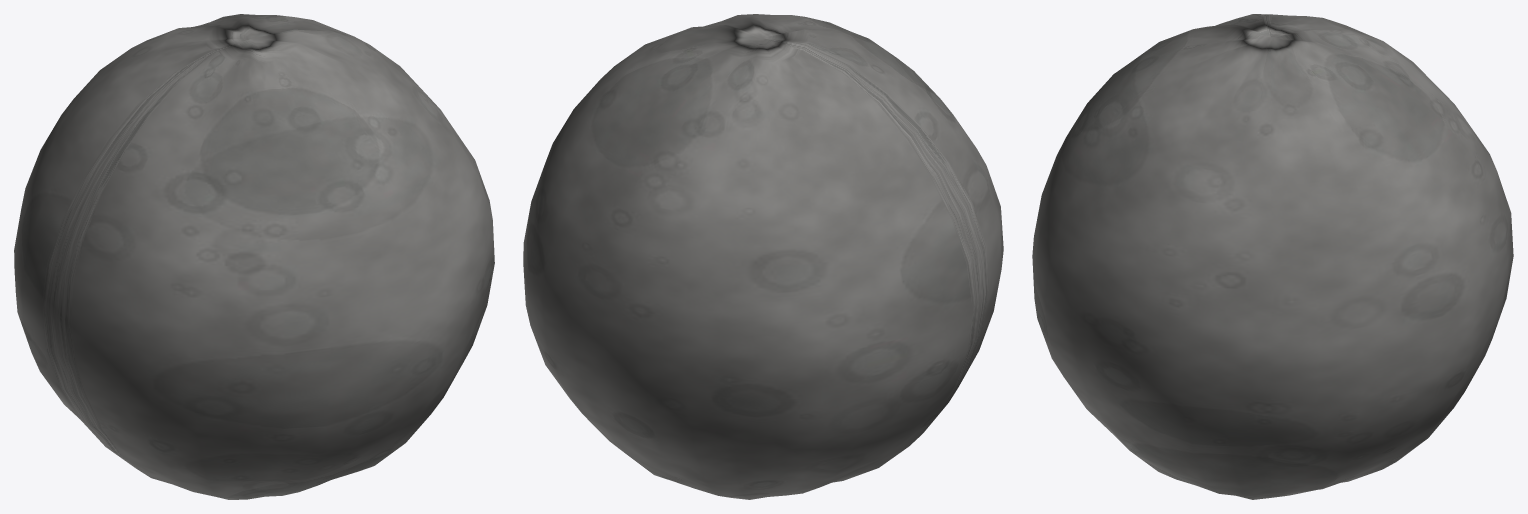
File: Luna.obj
The picture shows the model from 3 angles, left to right: view 1: azimuth 30°, elevation 25°; view 2: azimuth 150°, elevation 25°; view 3: azimuth 270°, elevation 25°; orthographic projection.
Visible parts, largest first — view 1: Luna; view 2: Luna; view 3: Luna.
Part boxes in pixels (x1,y1,x2,y2): Luna: [14, 14, 494, 499]; Luna: [523, 14, 1003, 499]; Luna: [1032, 14, 1513, 499].
Size of the model in its own units: 2.02 by 2 by 2.
1 material, 1 textured.
